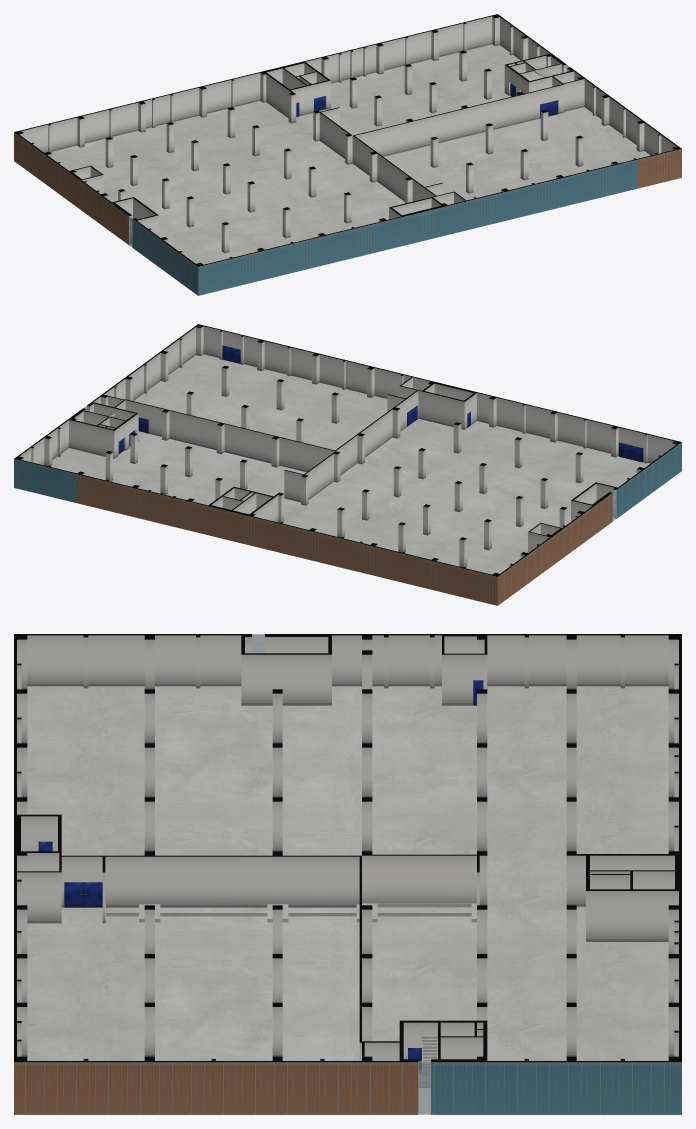
3 renders of one model, top to bottom at view 1: azimuth 30°, elevation 25°; view 2: azimuth 150°, elevation 25°; view 3: azimuth 270°, elevation 25°, orthographic. The views are drawn at different scales.
Visible parts, largest first — view 1: Polyline377, Line2251, Box2805; view 2: Polyline377, Line2251, Box2805; view 3: Line2251, Polyline377, Box2805, Rectangle1276.
Boxes of the visible parts, x1,y1,x2,y2 form: Polyline377: (14, 14, 681, 295); Line2251: (51, 44, 650, 264); Box2805: (314, 83, 558, 118); Polyline377: (14, 324, 681, 605); Line2251: (51, 354, 650, 574); Box2805: (118, 345, 643, 462); Line2251: (27, 686, 668, 1060); Polyline377: (14, 634, 681, 1114); Box2805: (64, 882, 421, 1071); Rectangle1276: (252, 634, 430, 1114).
Size of the model in its own units: 79.28 by 5.42 by 52.28.
12 materials, 10 textured.
